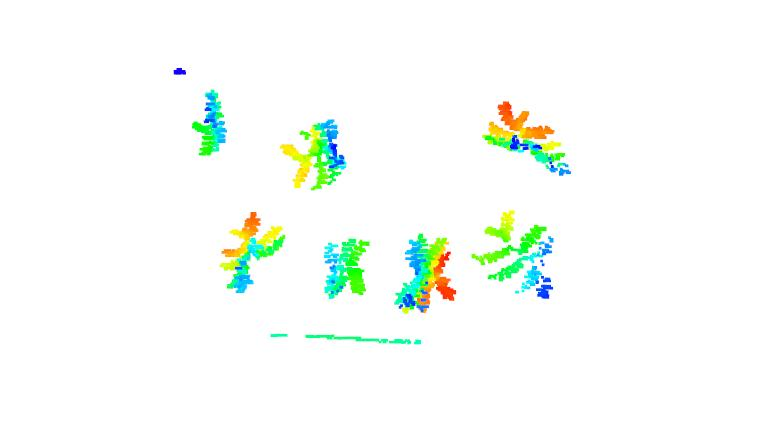chickpea: (469, 210, 558, 301), (483, 99, 568, 173), (219, 210, 287, 297), (395, 233, 458, 314), (283, 116, 347, 192), (323, 234, 371, 301), (192, 88, 228, 158)
